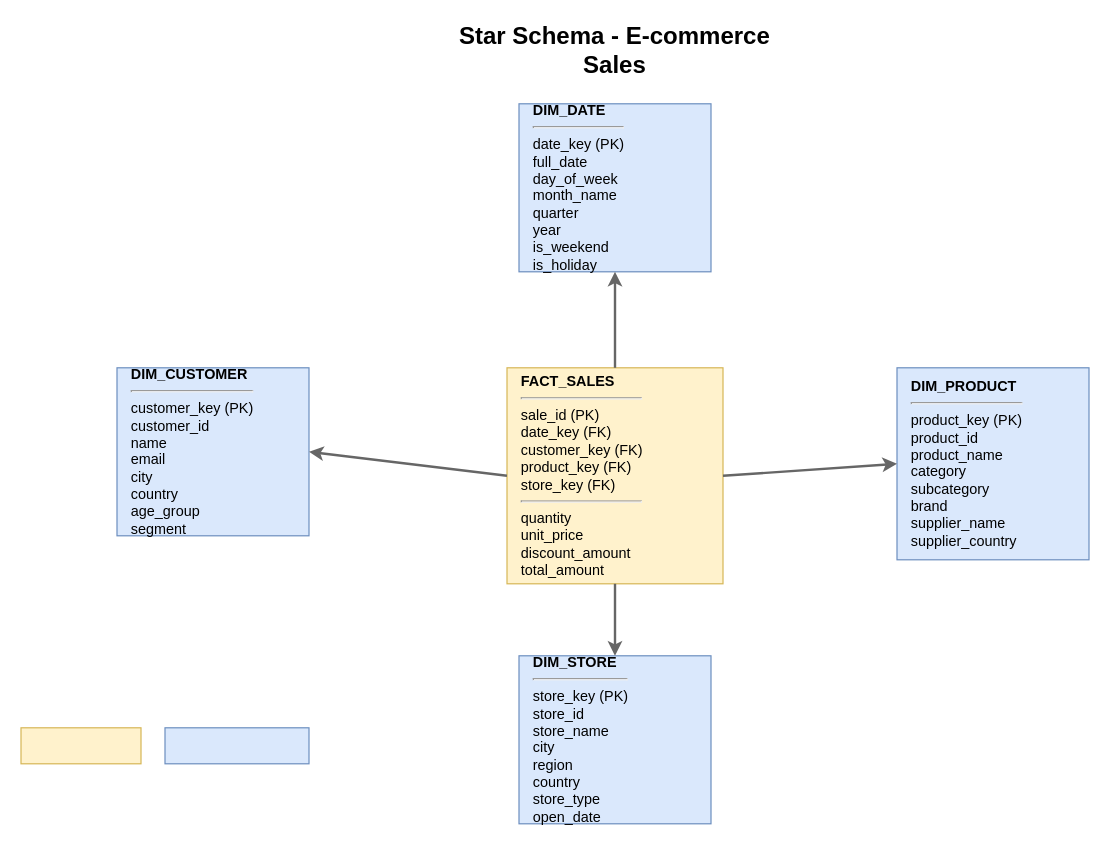
The diagram is 1110 pixels wide and 846 high, and some of its shapes have lost their labels. The shapes that lost their labels are listed below. From the top down, each one's centre as x and y in pixels, then its label:
the point at 80,745: Fact Table
the point at 236,745: Dimension Table
